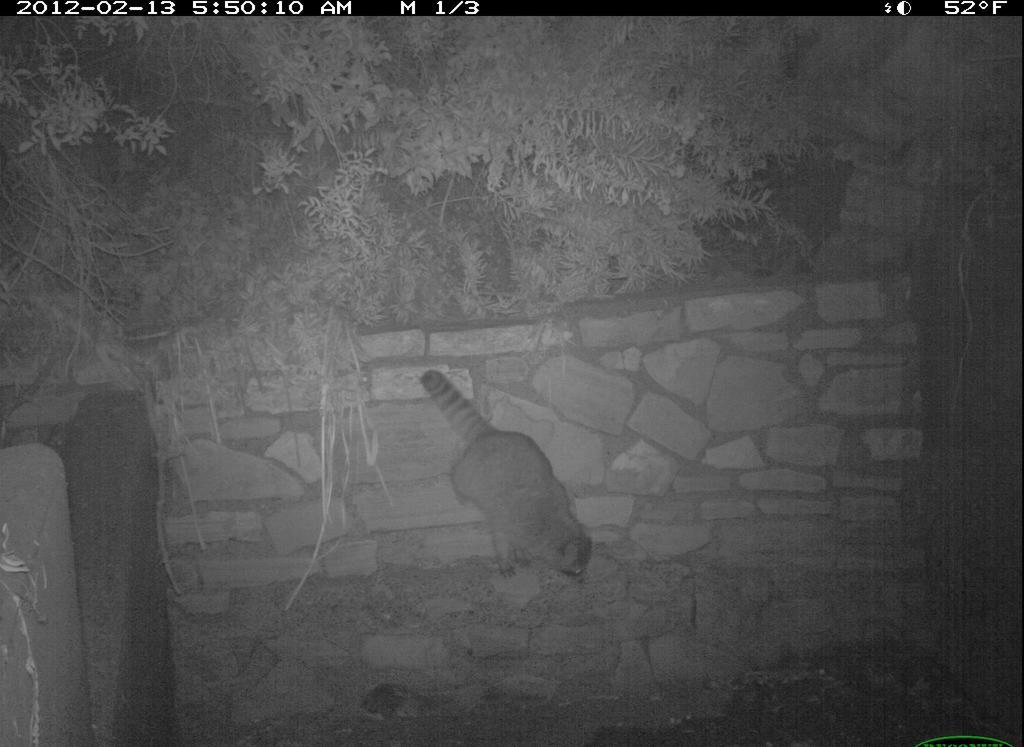raccoon: (417, 367, 603, 585)
